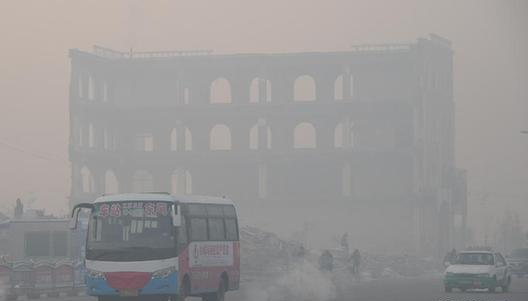bus: (66, 189, 239, 301)
car: (441, 247, 512, 295)
